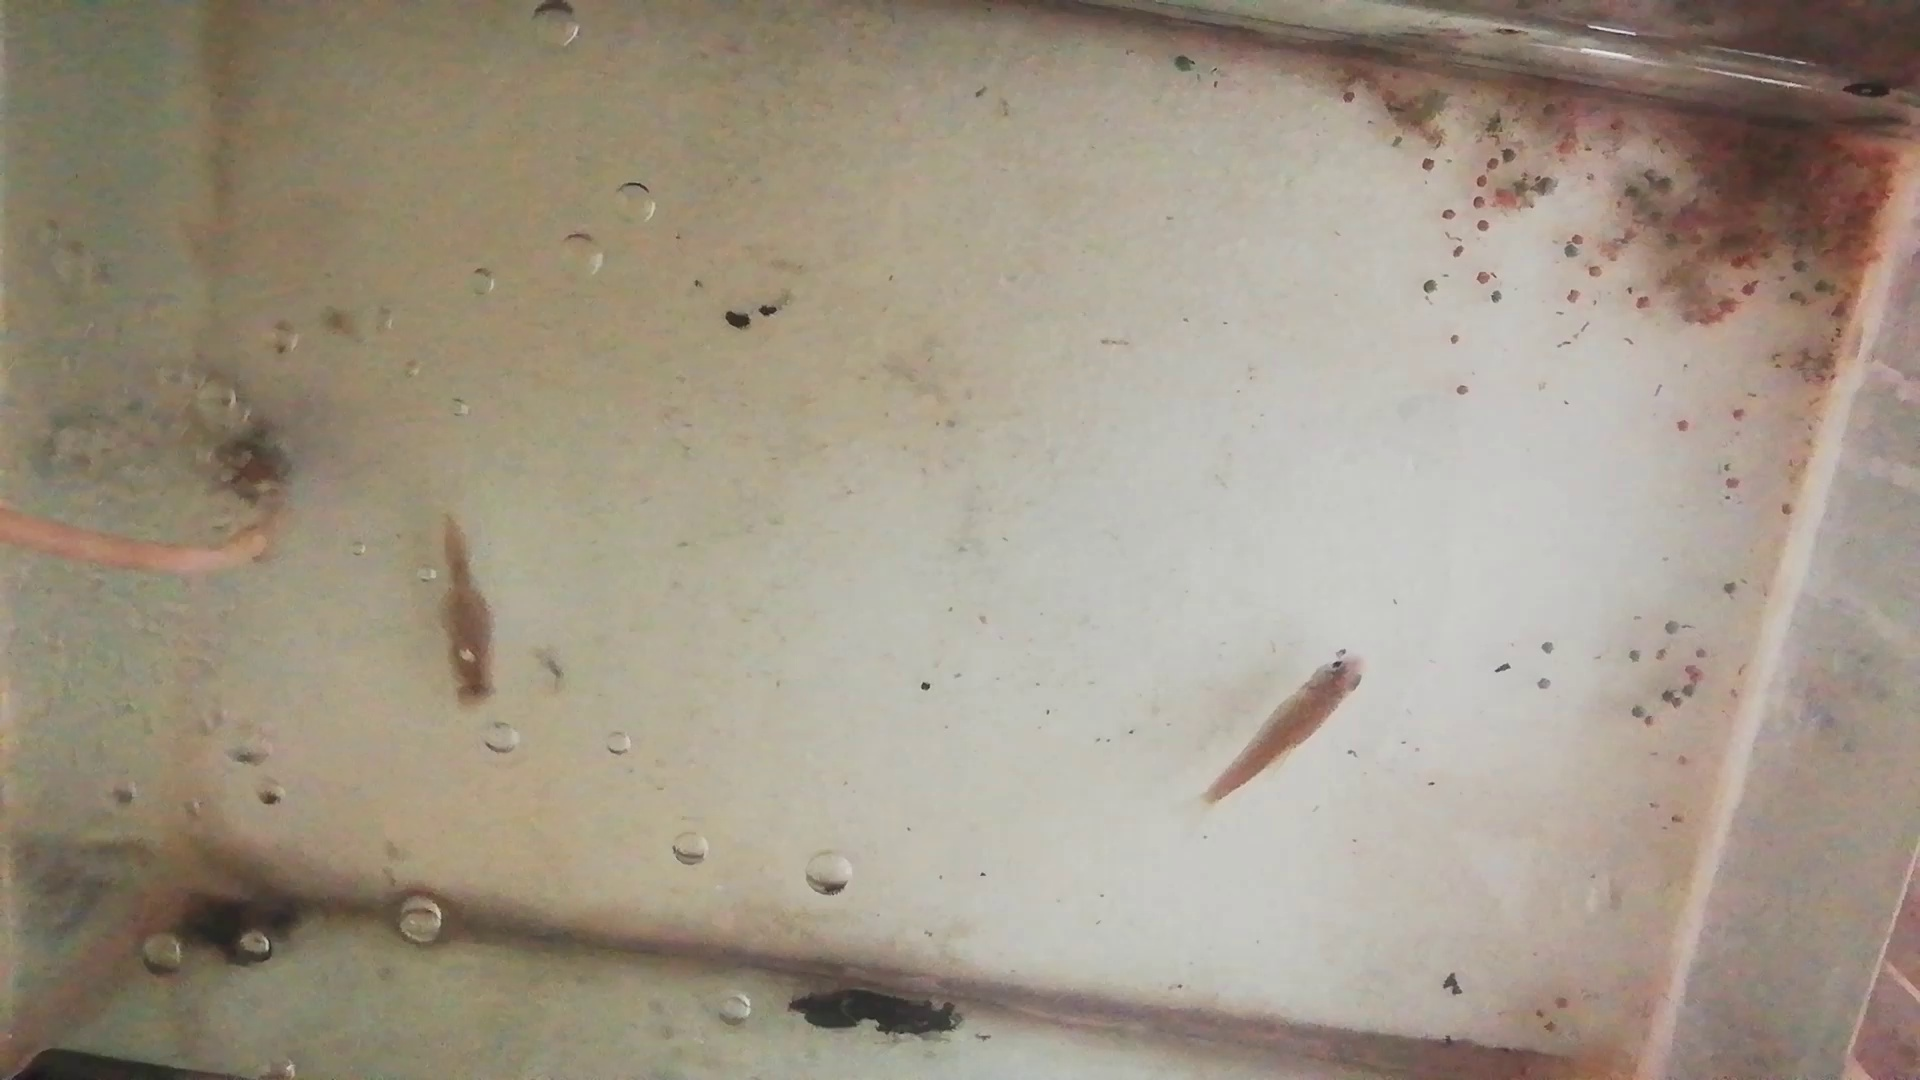fish: (1204, 644, 1369, 796), (436, 509, 497, 707)
